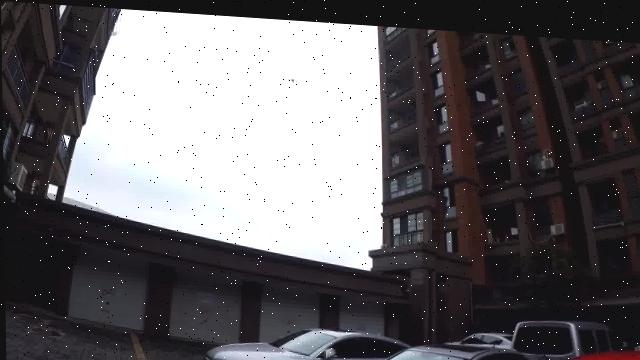drone: (280, 60, 306, 82)
